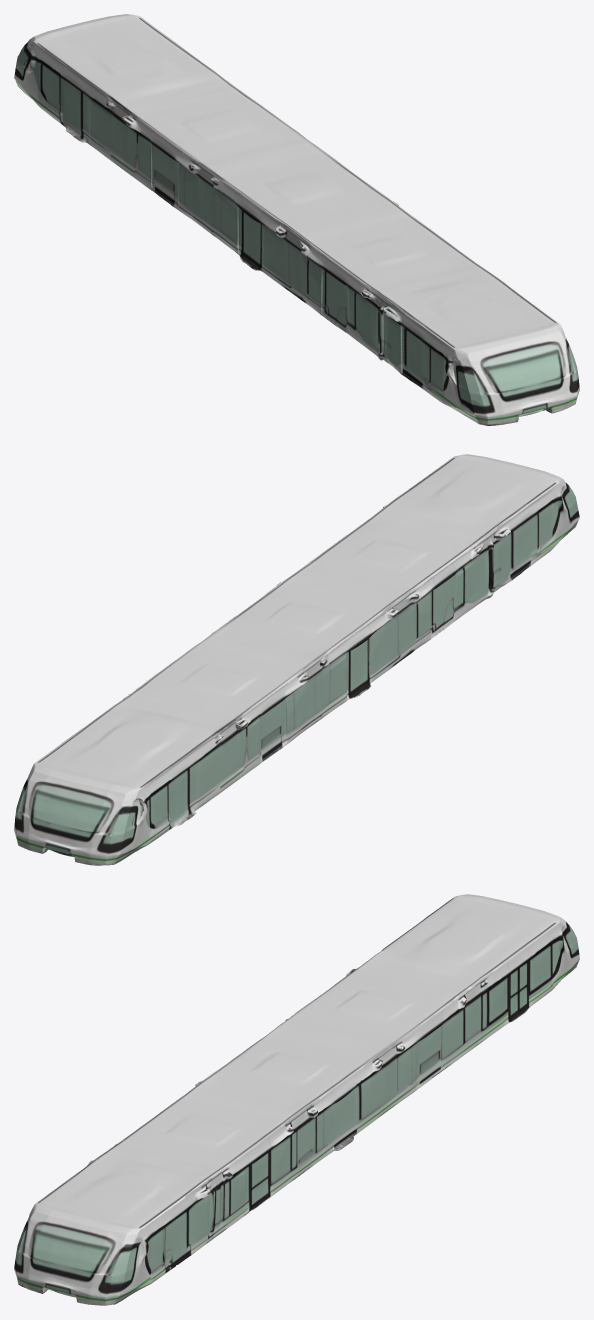
The model's file is Tranvia.fbx.
The picture shows the model from 3 angles, top to bottom: view 1: azimuth 30°, elevation 25°; view 2: azimuth 150°, elevation 25°; view 3: azimuth 330°, elevation 25°; orthographic projection.
Visible parts, largest first — view 1: tripo_node_25ddb2ab; view 2: tripo_node_25ddb2ab; view 3: tripo_node_25ddb2ab.
Boxes of the visible parts, box(x1,y1,x2,y2) form: tripo_node_25ddb2ab: box(14, 14, 579, 425); tripo_node_25ddb2ab: box(14, 454, 579, 865); tripo_node_25ddb2ab: box(14, 894, 579, 1305).
Bounding box in the file's own units: 0.1459 × 0.0787 × 1.
Materials: 1 (1 with a texture image).
